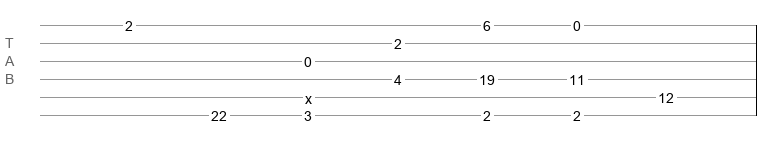0: (304, 54, 312, 64), (573, 18, 581, 28)
11: (569, 72, 585, 82)
12: (658, 90, 674, 100)
19: (479, 72, 495, 82)
2: (125, 18, 133, 28), (394, 36, 402, 46), (483, 108, 491, 118), (573, 108, 581, 118)
22: (211, 108, 227, 118)
3: (304, 108, 312, 118)
4: (394, 72, 402, 82)
6: (483, 18, 491, 28)
x: (305, 91, 312, 99)
